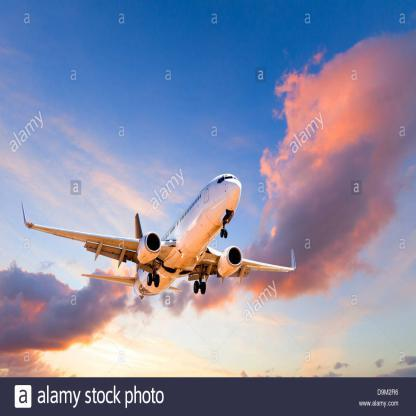CIV_Plane: (15, 172, 298, 305)
